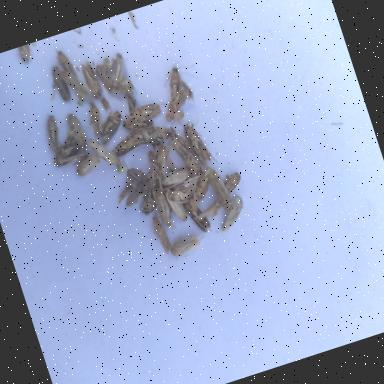pbw: (178, 112, 218, 170), (110, 163, 156, 209), (160, 58, 202, 100), (170, 130, 204, 180), (85, 132, 123, 174), (185, 166, 223, 207), (212, 192, 249, 232), (46, 132, 86, 168), (138, 144, 174, 182), (167, 228, 209, 260), (205, 167, 234, 213), (182, 197, 214, 238), (41, 64, 72, 106), (94, 108, 129, 145), (41, 111, 71, 153), (60, 65, 92, 104), (79, 58, 107, 102), (132, 118, 173, 148), (152, 186, 178, 233), (128, 98, 170, 125), (106, 132, 142, 162), (103, 51, 131, 88), (158, 90, 190, 122), (65, 111, 89, 152), (150, 214, 173, 255), (53, 45, 78, 82), (164, 186, 188, 224), (83, 100, 107, 137), (192, 201, 224, 228), (158, 164, 192, 187), (121, 112, 155, 135), (74, 152, 104, 178), (180, 174, 208, 201), (59, 151, 92, 173), (166, 185, 197, 207), (222, 170, 244, 193), (14, 43, 34, 63)
